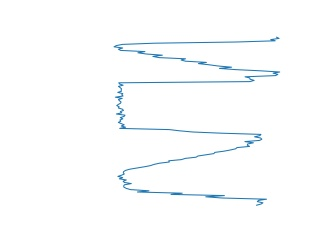distributaryChannelFill: (111, 74, 268, 145)
mouthBar: (110, 32, 283, 75)
underwaterDistributaryChannel: (113, 145, 270, 207)
